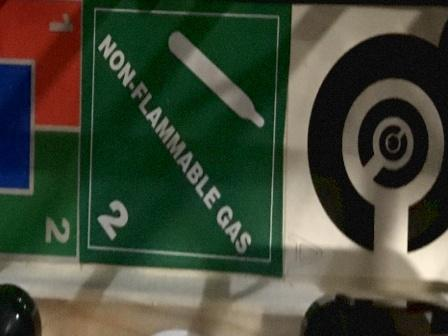non-flammable-gas: (82, 1, 289, 281)
